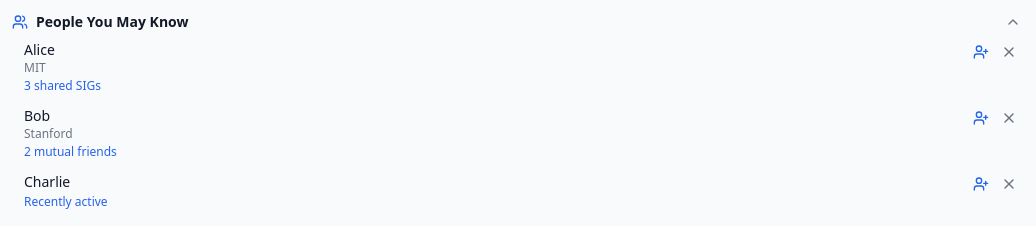
Test: FriendRecommendations › dismisses recommendation optimistically
Click the button titled "Dismiss" in the row of "Bob" at (1009, 118), box [997,106,1021,130]
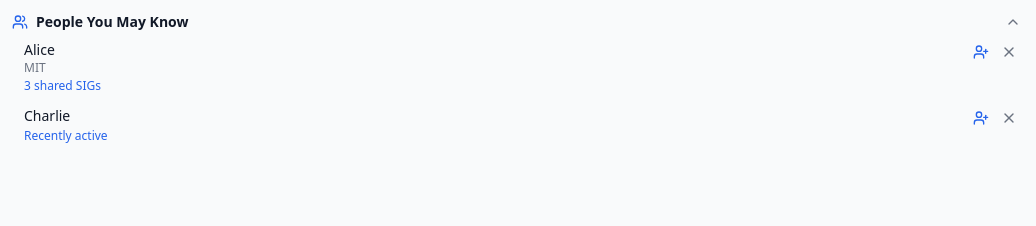
Result: the text "Bob" is gone
